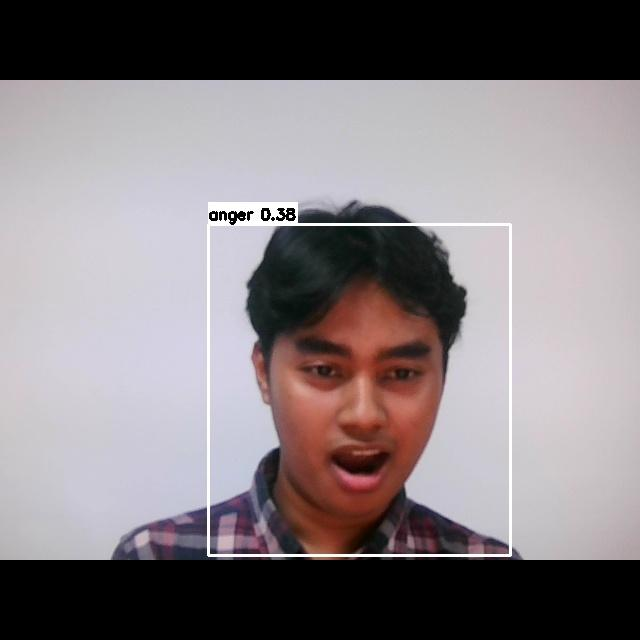Surprised: (278, 316, 444, 507)
